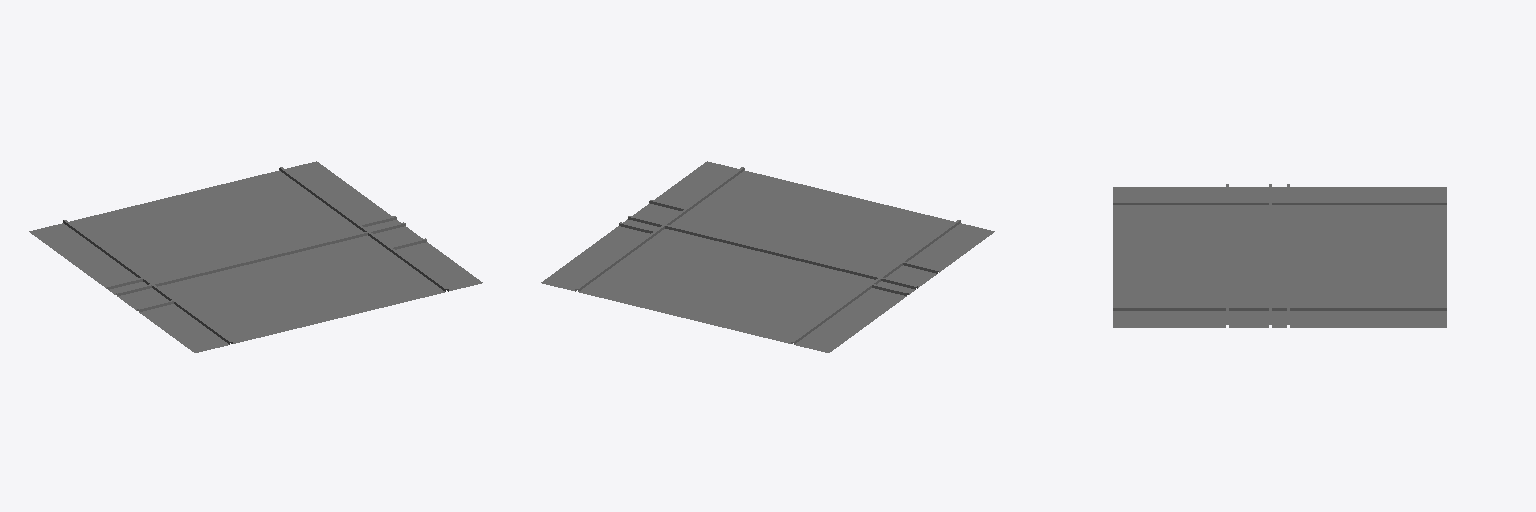
The model's file is ceiling.obj.
3 views of the same model, side by side, from view 1: azimuth 30°, elevation 25°; view 2: azimuth 150°, elevation 25°; view 3: azimuth 270°, elevation 25° (orthographic).
Parts seen in each view (by area): view 1: polySurface1 pPlane42; view 2: polySurface1 pPlane42; view 3: polySurface1 pPlane42.
Boxes of the visible parts, box(x1,y1,x2,y2) form: polySurface1 pPlane42: box(29, 161, 482, 352); polySurface1 pPlane42: box(541, 161, 994, 352); polySurface1 pPlane42: box(1113, 184, 1446, 327).
Size of the model in its own units: 953 by 8.52 by 953.